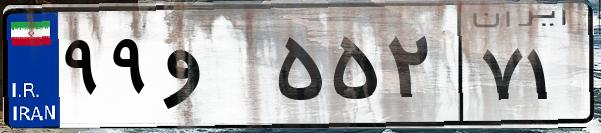1: (525, 38, 570, 115)
2: (385, 28, 445, 110)
5: (270, 28, 330, 110), (330, 28, 385, 110)
7: (475, 38, 525, 113)
9: (57, 26, 110, 100), (110, 28, 158, 98)
و: (158, 20, 270, 120)
